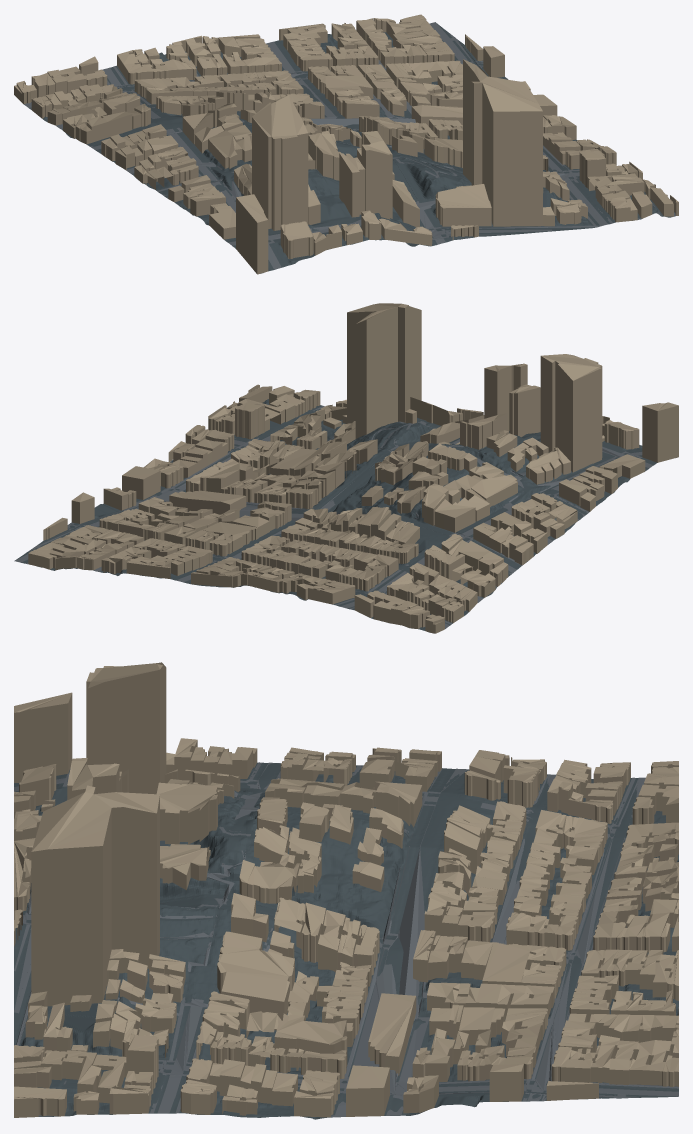
Rendered from epsg26910-1436-10894.lod0.glb.
3 renders of one model, top to bottom at view 1: azimuth 30°, elevation 25°; view 2: azimuth 150°, elevation 25°; view 3: azimuth 270°, elevation 25°, orthographic. The views are drawn at different scales.
Parts seen in each view (by area): view 1: epsg26910-1436-10894-lod0; view 2: epsg26910-1436-10894-lod0; view 3: epsg26910-1436-10894-lod0.
Boxes of the visible parts, left/top/right/bottom form: epsg26910-1436-10894-lod0: left=14, top=14, right=678, bottom=274; epsg26910-1436-10894-lod0: left=14, top=303, right=678, bottom=633; epsg26910-1436-10894-lod0: left=14, top=662, right=678, bottom=1119.
Bounding box in the file's own units: 384 × 144 × 384.
